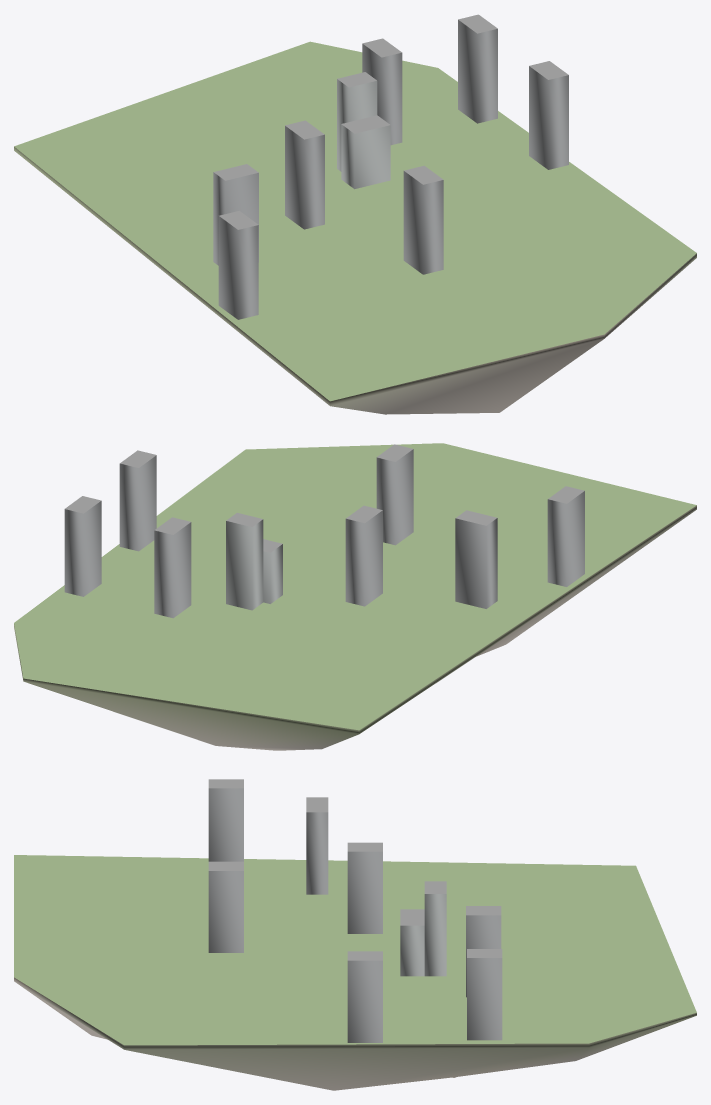
Rendered from SKY-034.lod2.glb.
3 renders of one model, top to bottom at view 1: azimuth 30°, elevation 25°; view 2: azimuth 150°, elevation 25°; view 3: azimuth 270°, elevation 25°, orthographic. The views are drawn at different scales.
Visible parts, largest first — view 1: deck, buildings, rock; view 2: deck, buildings, rock; view 3: deck, buildings, rock.
Boxes of the visible parts, x1,y1,x2,y2 form: deck: (14, 41, 696, 401); buildings: (213, 14, 568, 319); rock: (14, 146, 696, 414); deck: (14, 443, 696, 730); buildings: (64, 444, 584, 618); rock: (14, 505, 696, 750); deck: (14, 855, 696, 1045); buildings: (208, 779, 502, 1042); rock: (14, 977, 696, 1090).
Size of the model in its own units: 165 by 85.3 by 251.
